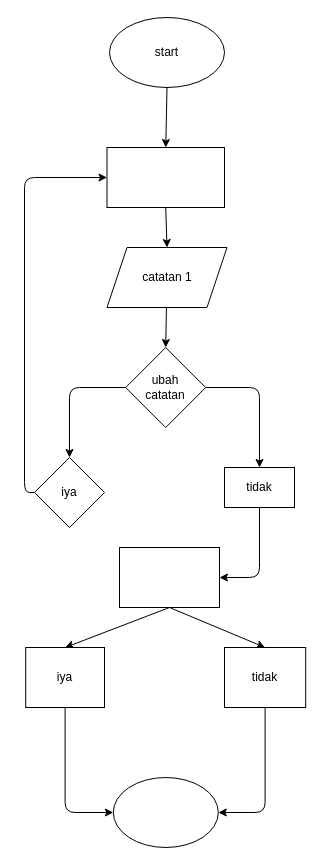
Some shapes in this 324 by 865 pixel diagram are drawn without their labels. The shapes that lost their labels are listed below. From the top down, each one's centre as x and y in pixels, then its label:
point 165,177: membuat catatan
point 169,577: hapus catatan
point 165,812: hasil akhir
